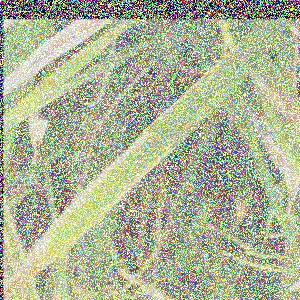Leaf_Blast: (37, 200, 98, 249), (21, 36, 66, 75)
